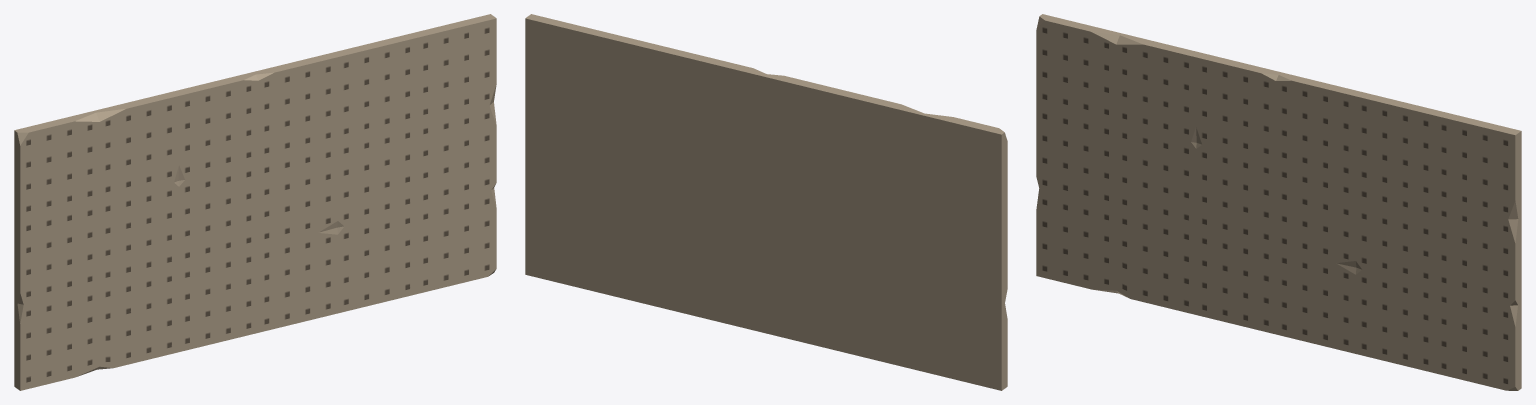
Rendered from SM_Prop_ToolBoard_01.fbx.
The picture shows the model from 3 angles, left to right: view 1: azimuth 30°, elevation 25°; view 2: azimuth 150°, elevation 25°; view 3: azimuth 330°, elevation 25°; orthographic projection.
Parts seen in each view (by area): view 1: SM_Prop_ToolBoard_01; view 2: SM_Prop_ToolBoard_01; view 3: SM_Prop_ToolBoard_01.
Boxes of the visible parts, x1,y1,x2,y2 form: SM_Prop_ToolBoard_01: (14,14,496,390); SM_Prop_ToolBoard_01: (525,14,1007,390); SM_Prop_ToolBoard_01: (1036,14,1521,390).
Bounding box in the file's own units: 187 × 96.16 × 4.09.
